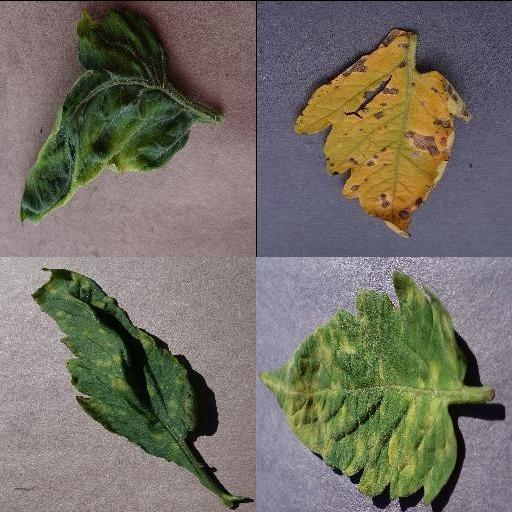Leaf Mold: (259, 270, 467, 506), (30, 268, 198, 461)
Septoria: (294, 27, 470, 237)
Yellow Leaf Curl Virus: (19, 8, 195, 226)
